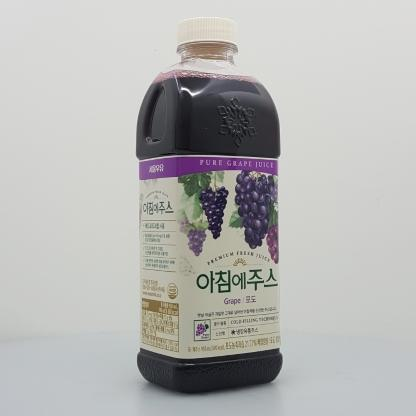------------950ML: (136, 16, 283, 395)
